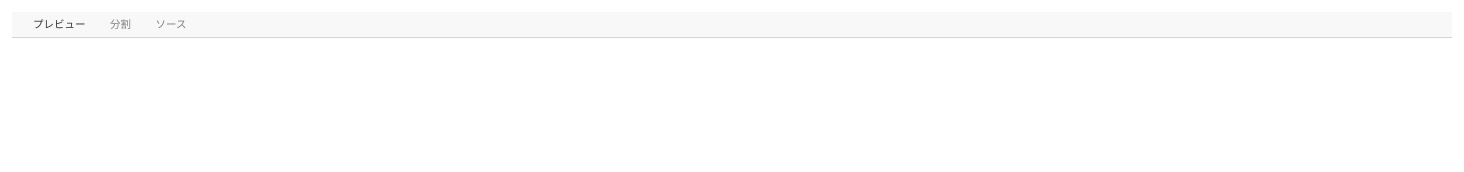
Test case: MarkdownViewer の再マウント (タブ切替・再読み込み) › 未編集ならエディタは外部で変更された最新の内容を表示し、保存で巻き戻さない
Later steps or results of the test are not shown.
Click the button "ソース" at (171, 24), box [145, 16, 197, 33]
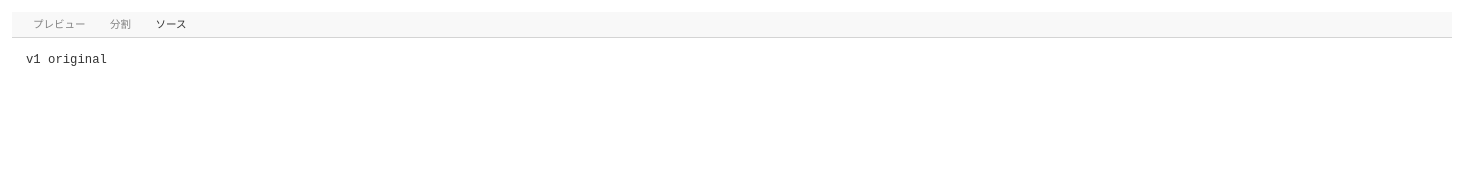
Result: the text box holds "v1 original" at [12, 38, 1452, 100]
